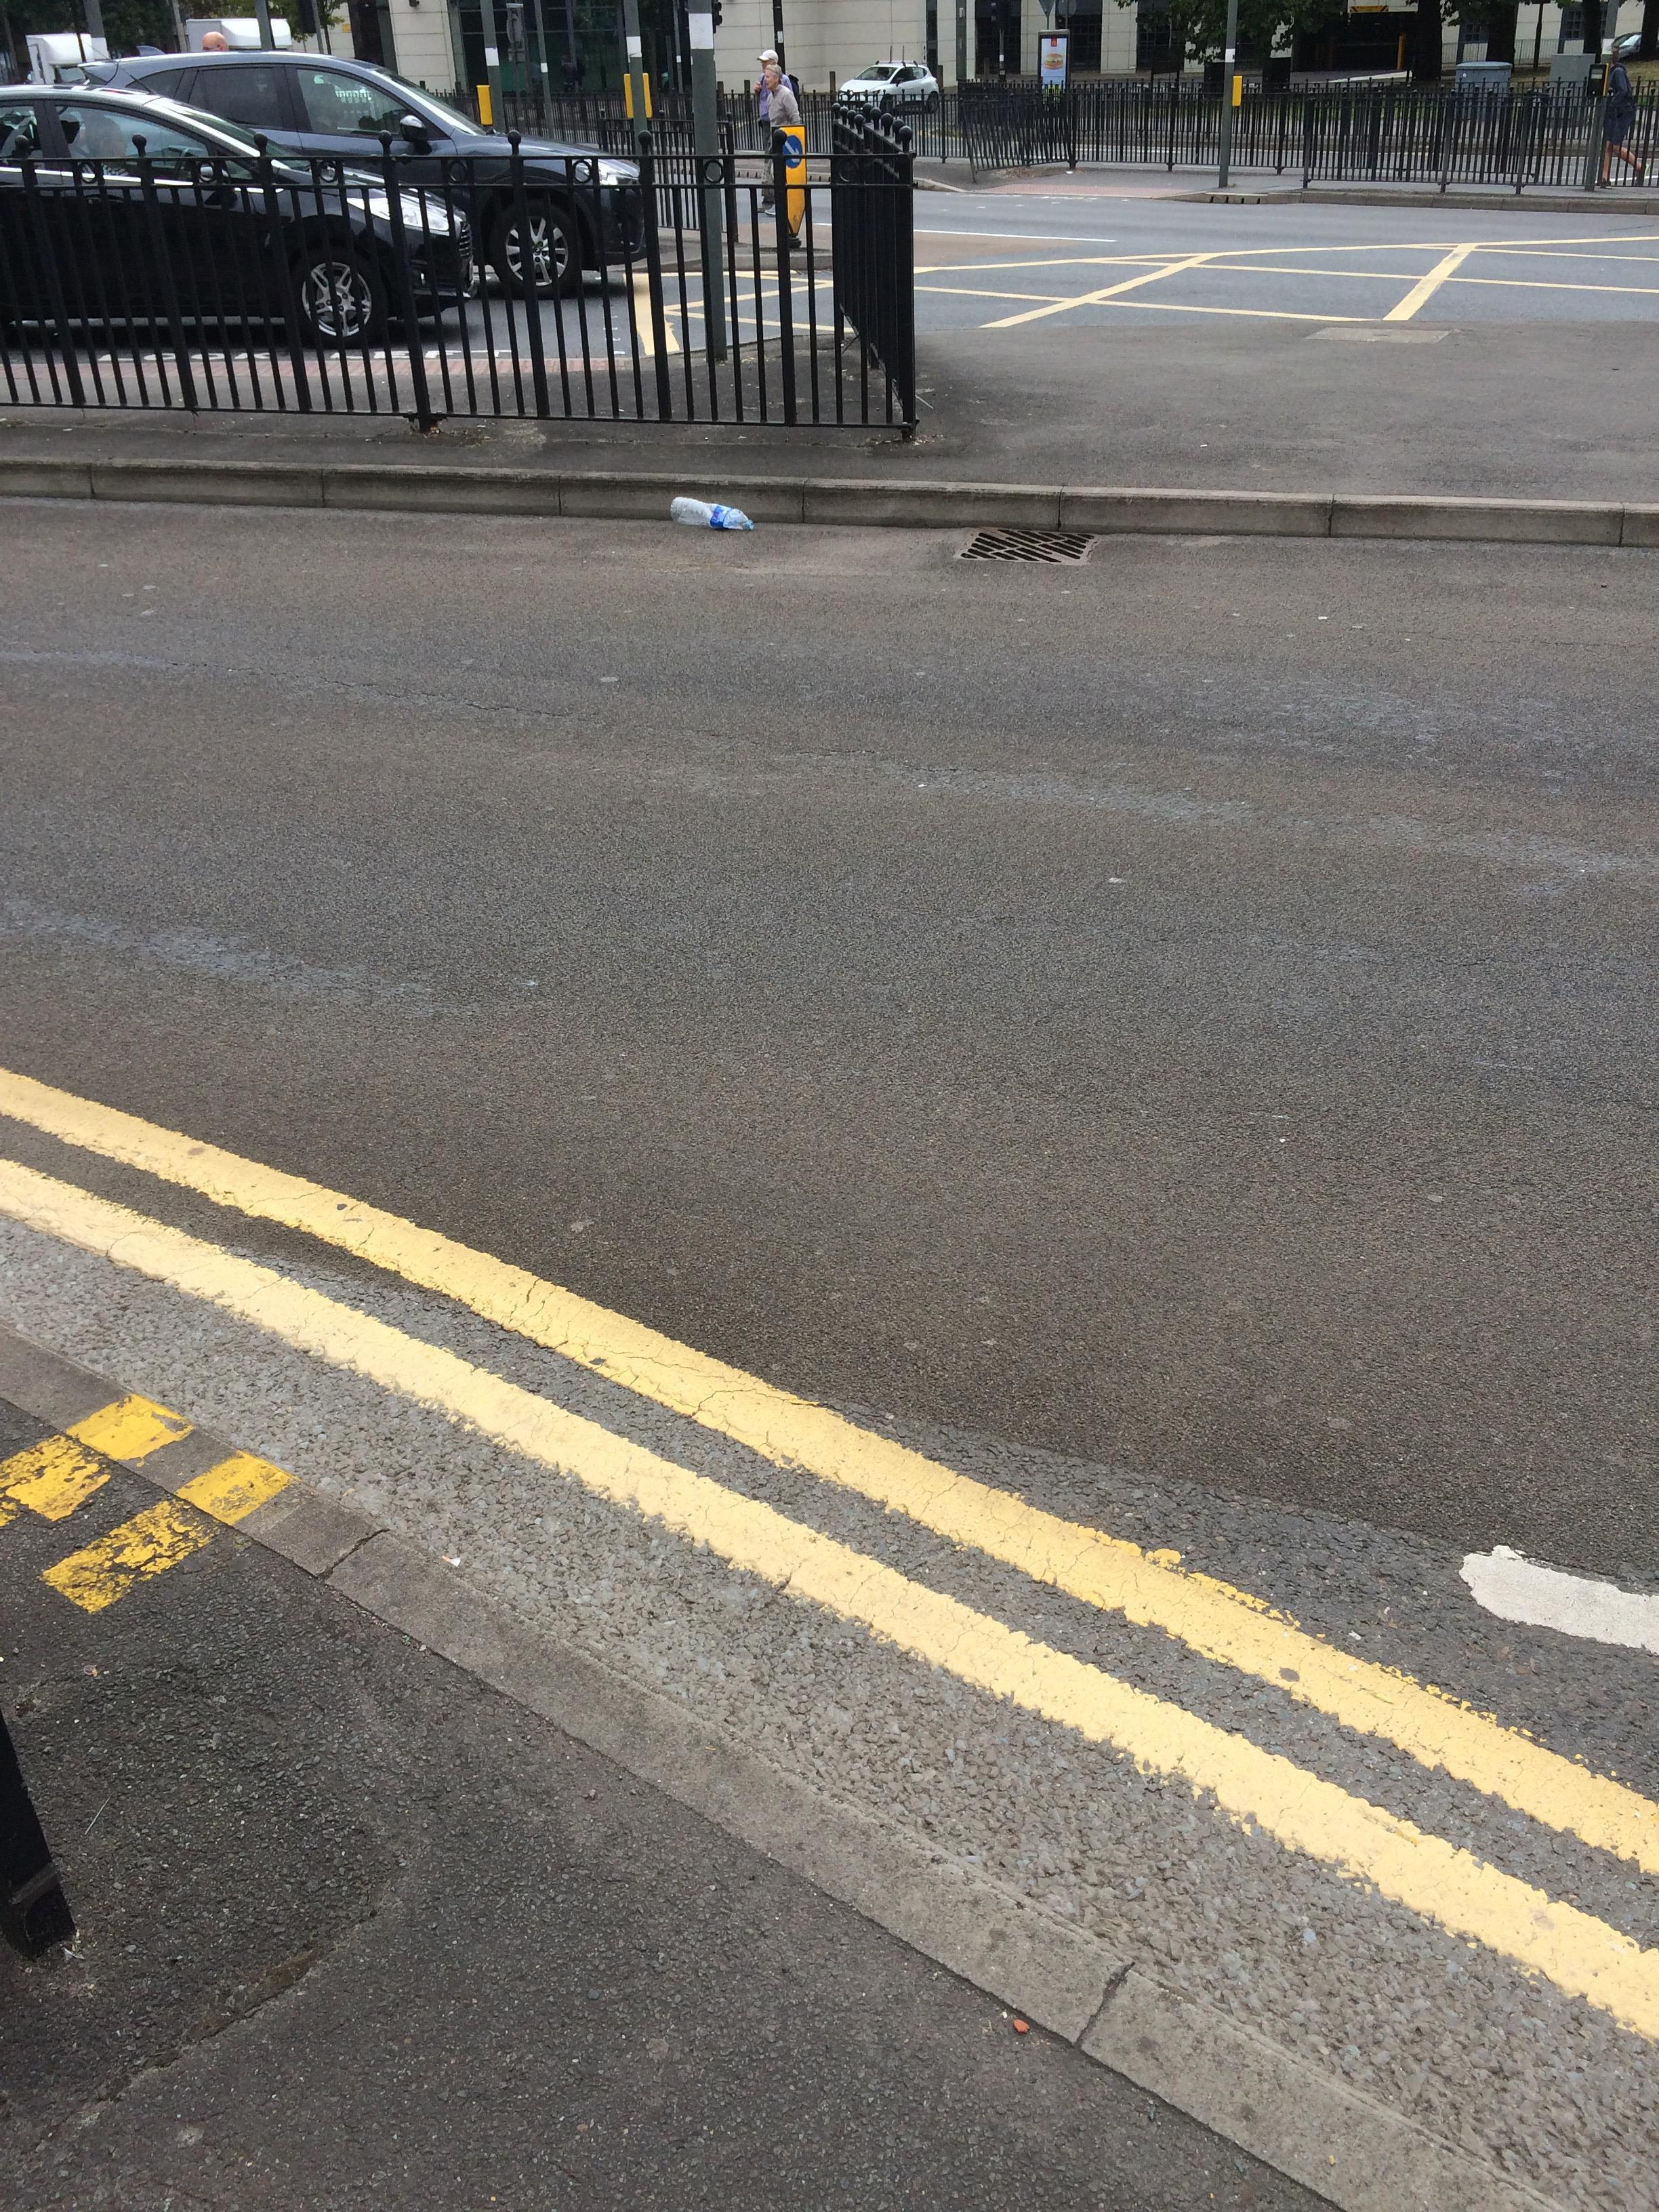Trash: (664, 496, 756, 533)
